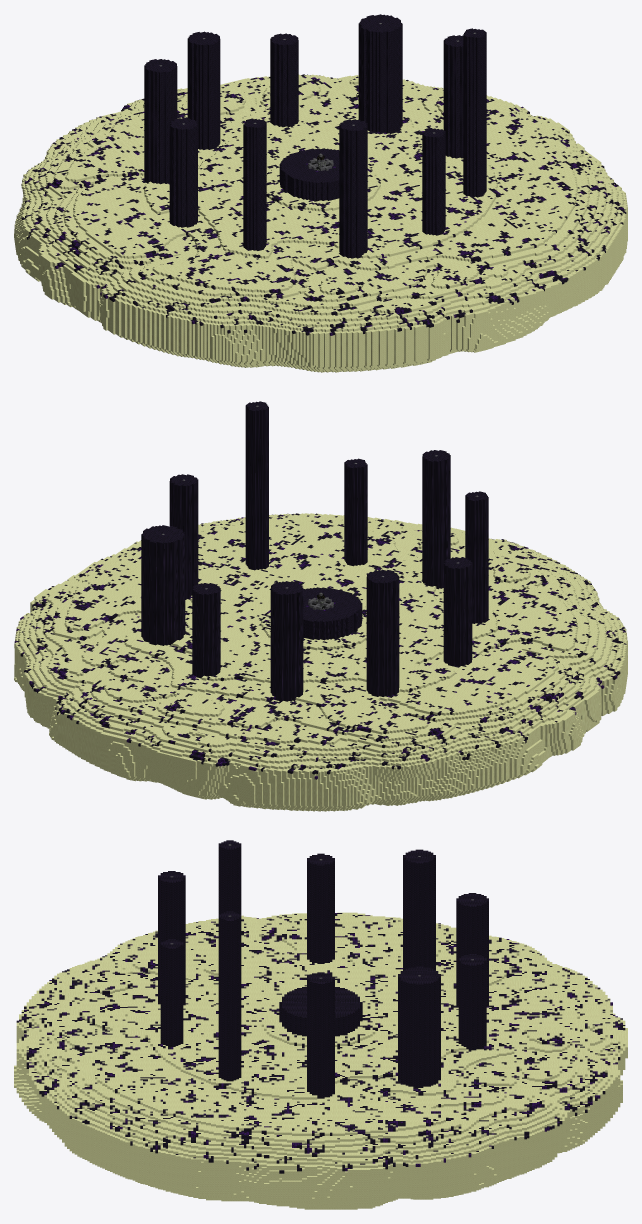
File: stellarity_main_island.obj
The picture shows the model from 3 angles, top to bottom: view 1: azimuth 30°, elevation 25°; view 2: azimuth 150°, elevation 25°; view 3: azimuth 270°, elevation 25°; orthographic projection.
Parts seen in each view (by area): view 1: MainIsland; view 2: MainIsland; view 3: MainIsland.
Boxes of the visible parts, x1,y1,x2,y2 form: MainIsland: (14, 14, 627, 372); MainIsland: (14, 401, 627, 811); MainIsland: (14, 840, 627, 1209).
Size of the model in its own units: 243 by 104 by 243.
8 materials, 8 textured.
